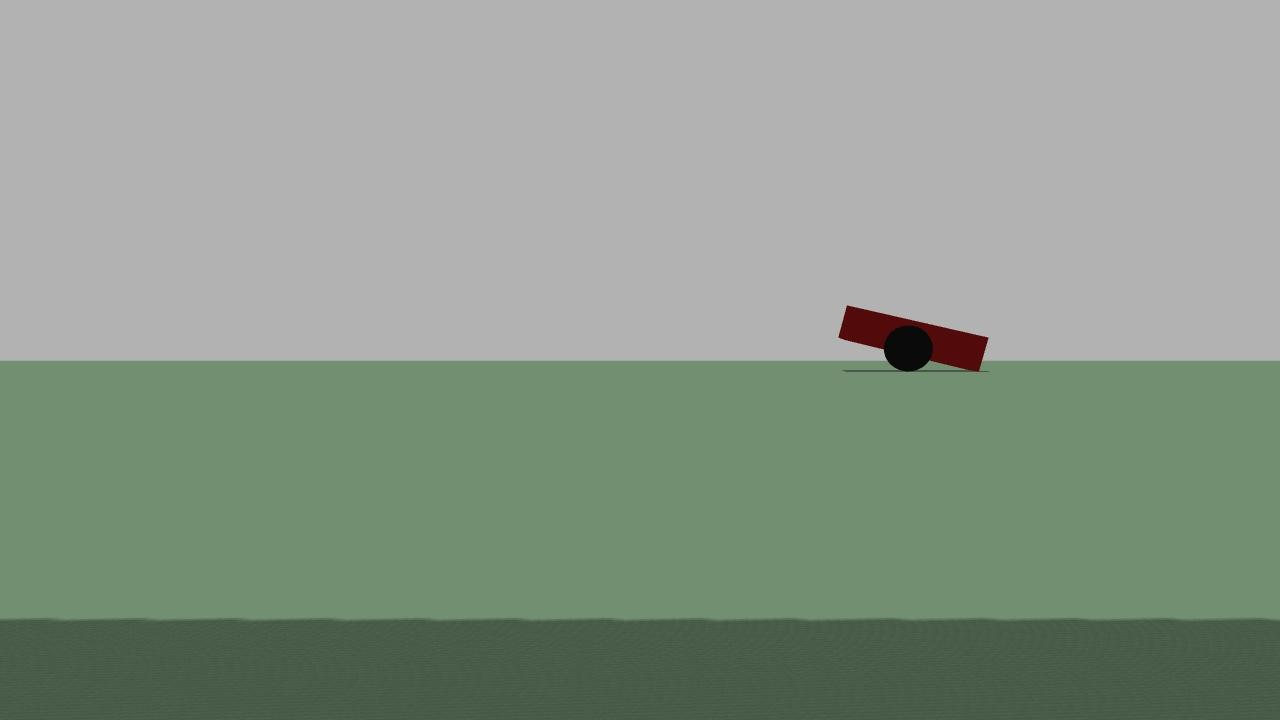ground_vehicle: (832, 295, 998, 375)
